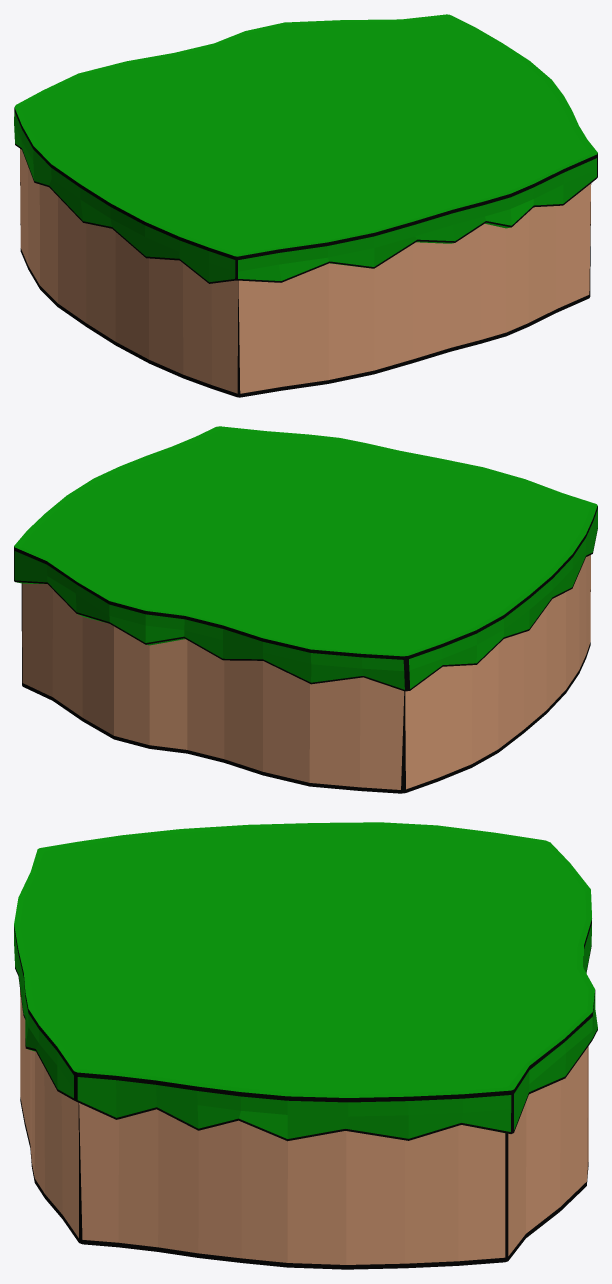
The model's file is CardboardPlatform03.fbx.
3 views of the same model, one above another, from view 1: azimuth 30°, elevation 25°; view 2: azimuth 150°, elevation 25°; view 3: azimuth 270°, elevation 25° (orthographic). The views are drawn at different scales.
Visible parts, largest first — view 1: Cube.008; view 2: Cube.008; view 3: Cube.008.
Boxes of the visible parts, left/top/right/bottom form: Cube.008: left=14, top=14, right=597, bottom=397; Cube.008: left=14, top=426, right=597, bottom=793; Cube.008: left=14, top=822, right=597, bottom=1269.
Size of the model in its own units: 4661 by 1377 by 4161.
